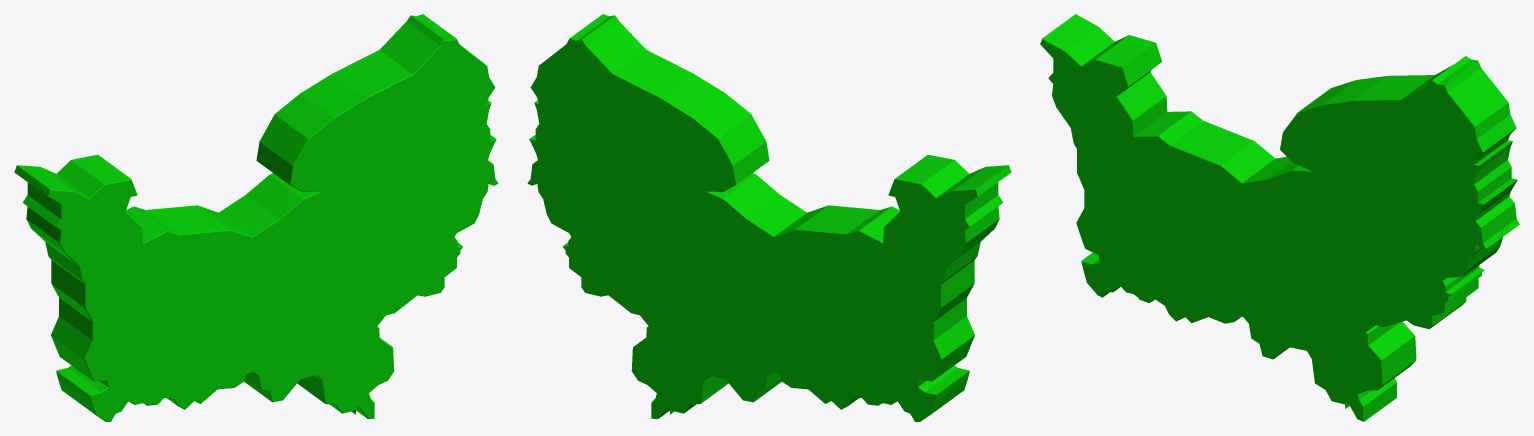
Rendered from Normandie.glb.
3 views of the same model, side by side, from view 1: azimuth 30°, elevation 25°; view 2: azimuth 150°, elevation 25°; view 3: azimuth 330°, elevation 25° (orthographic).
Parts seen in each view (by area): view 1: Normandy; view 2: Normandy; view 3: Normandy.
Boxes of the visible parts, left/top/right/bottom form: Normandy: left=14, top=14, right=498, bottom=421; Normandy: left=527, top=14, right=1011, bottom=421; Normandy: left=1040, top=14, right=1519, bottom=421.
Size of the model in its own units: 0.9884 by 0.7585 by 0.1283.
